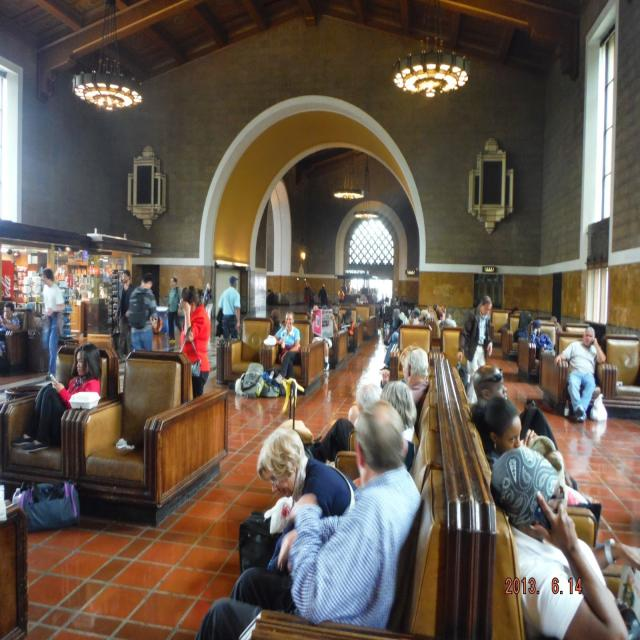body: (192, 399, 422, 640), (357, 286, 527, 470), (483, 444, 640, 639), (234, 426, 360, 611), (470, 364, 576, 490), (468, 394, 579, 494), (10, 342, 104, 453), (268, 284, 358, 354), (553, 325, 607, 425), (457, 294, 494, 404), (178, 286, 212, 398), (39, 266, 65, 380), (128, 272, 158, 351), (272, 310, 301, 385), (310, 304, 338, 372), (115, 269, 135, 361), (217, 275, 241, 339), (166, 277, 183, 342), (0, 301, 20, 356), (529, 320, 556, 360), (202, 281, 215, 326), (318, 283, 328, 307)
